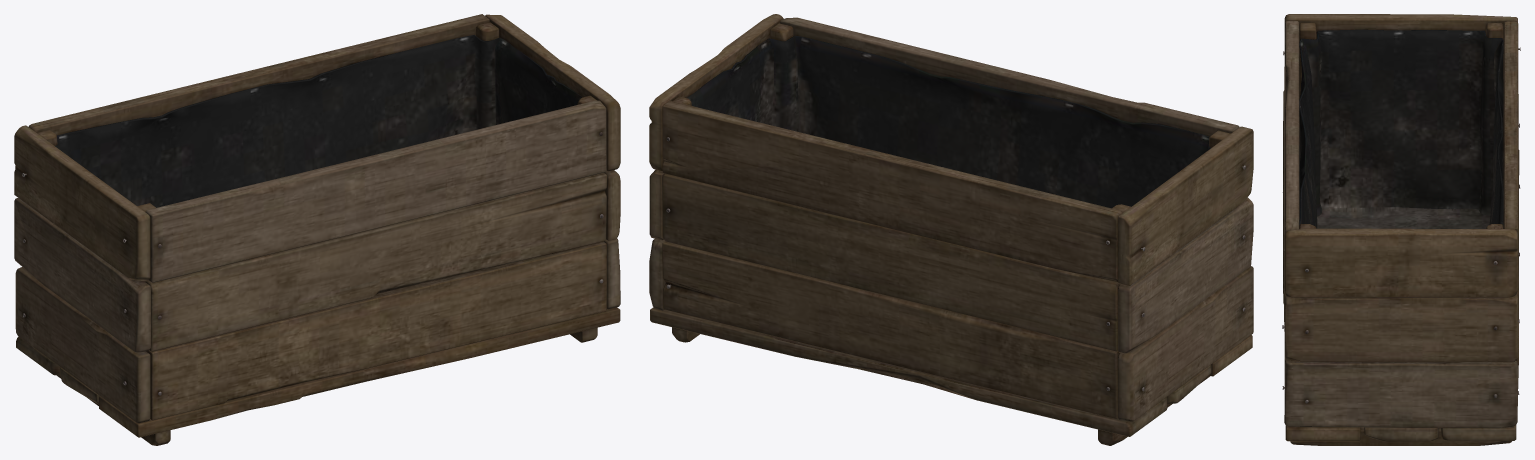
The model's file is planter_box_01.glb.
3 views of the same model, side by side, from view 1: azimuth 30°, elevation 25°; view 2: azimuth 150°, elevation 25°; view 3: azimuth 270°, elevation 25° (orthographic). The views are drawn at different scales.
Parts seen in each view (by area): view 1: planter_box_01; view 2: planter_box_01; view 3: planter_box_01.
Boxes of the visible parts, x1,y1,x2,y2 form: planter_box_01: [14, 14, 620, 445]; planter_box_01: [649, 14, 1253, 445]; planter_box_01: [1282, 14, 1520, 445].
Bounding box in the file's own units: 0.9126 × 0.4249 × 0.4137.
1 material, 1 textured.
